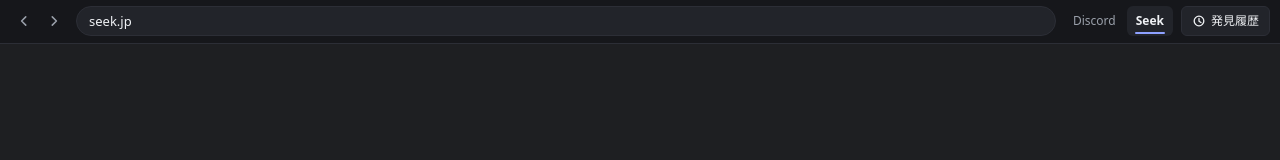
Test: BrowserChrome › 通常ルート・検索ページは履歴に記録せず、Discord リンク先が dmListPath になる
Step 1. Click the button "発見履歴" → coordinates (1226, 21), box [1181,6,1270,36]
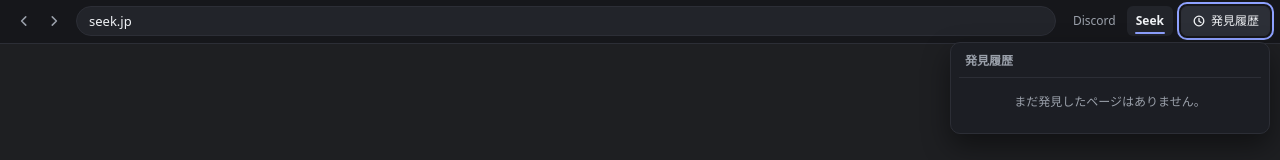
Check: the text "まだ発見したページはありません。" is shown, box [1014,93,1206,110]
